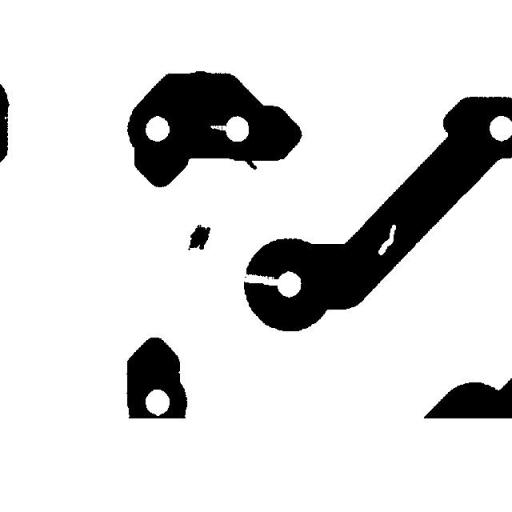copper: (180, 216, 218, 258)
mousebite: (202, 118, 236, 138)
open: (230, 266, 290, 293)
pin-hole: (370, 217, 404, 262)
spur: (234, 148, 264, 177)
